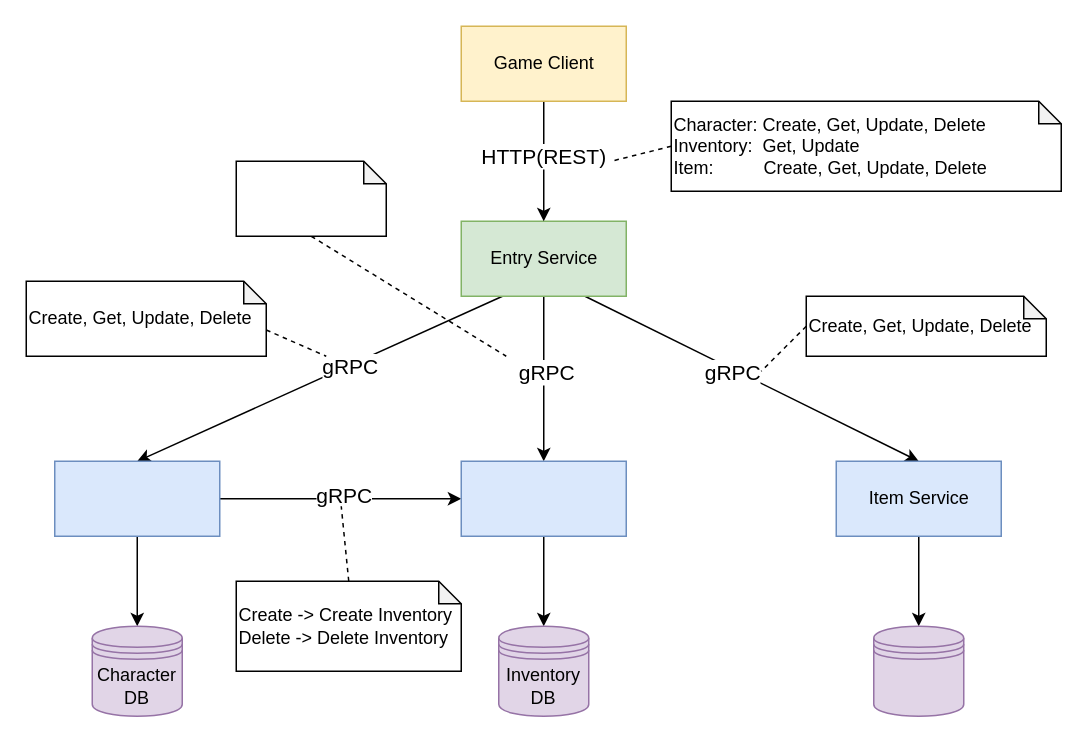
This 1088x743 diagram has some shape labels left out. The centre of each missing label's shape, as x and y in pixels:
Character Service: the point at 136,498
Get, Update: the point at 310,198
Inventory Service: the point at 543,498
Item DB: the point at 918,670
